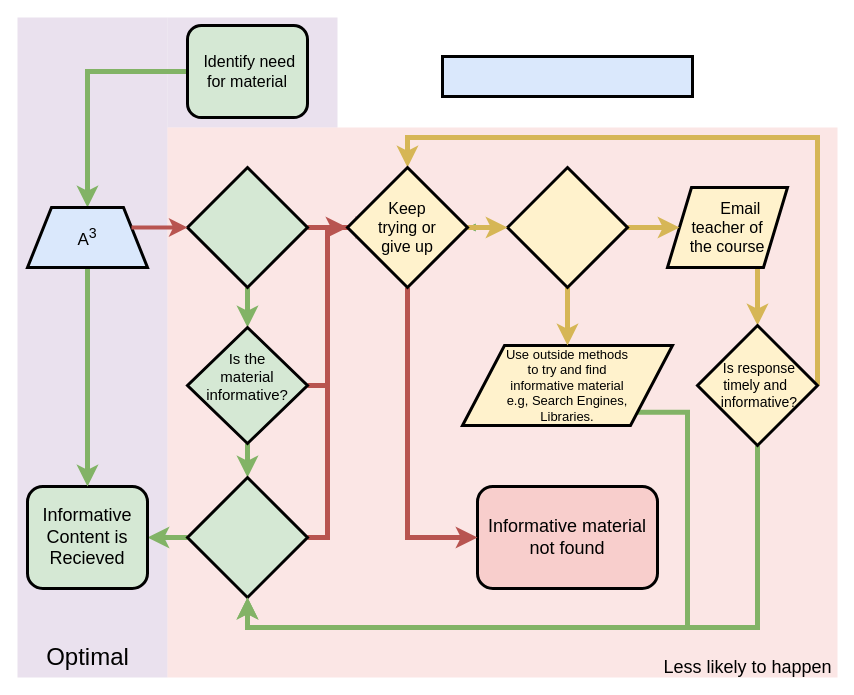
The diagram is 854 pixels wide and 695 high, and some of its shapes have lost their labels. The shapes that lost their labels are listed below. From the top down, each one's centre as x and y in pixels, then its label:
At point (567, 76): "Student's perspective".
At point (247, 227): "Is it in course content?".
At point (567, 227): "Teacher or outside sources".
At point (247, 537): "Is the content current?".
